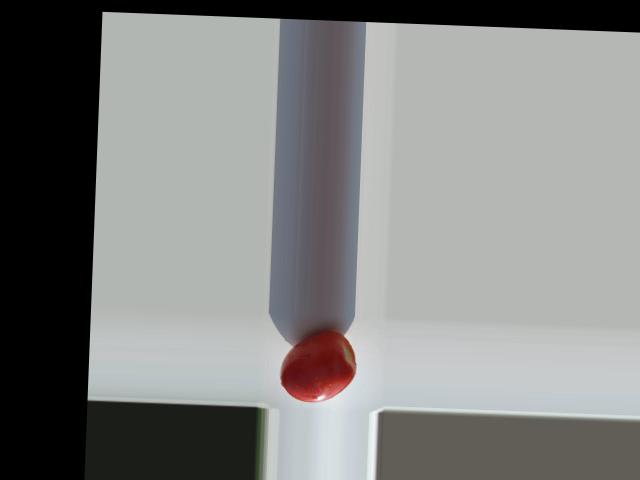tomato: (279, 329, 357, 404)
